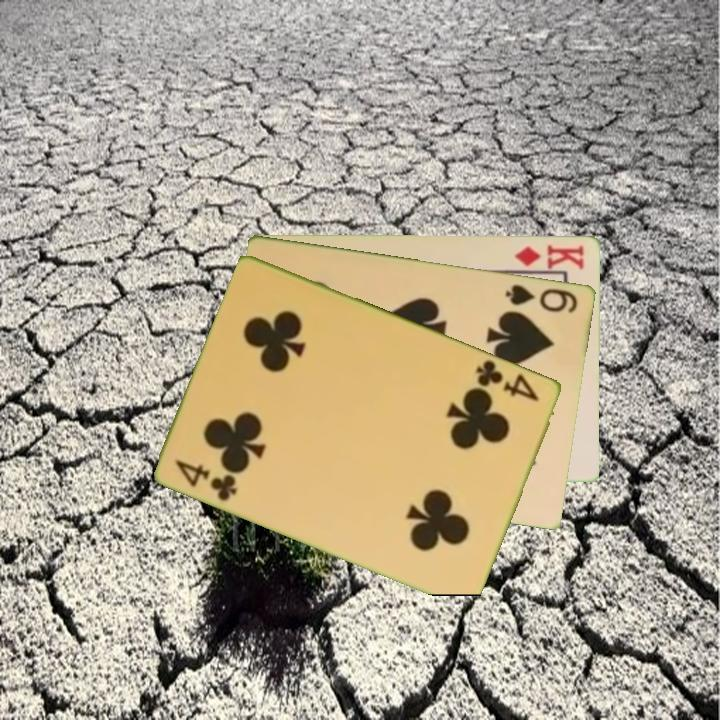4c: (473, 356, 543, 404), (172, 456, 241, 504)
6s: (502, 280, 581, 315)
Kd: (511, 241, 587, 272)
